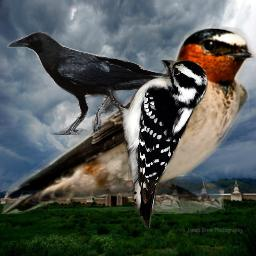Crow: (7, 30, 181, 135)
Swallow: (1, 24, 256, 214)
Woodpecker: (105, 60, 208, 232)
